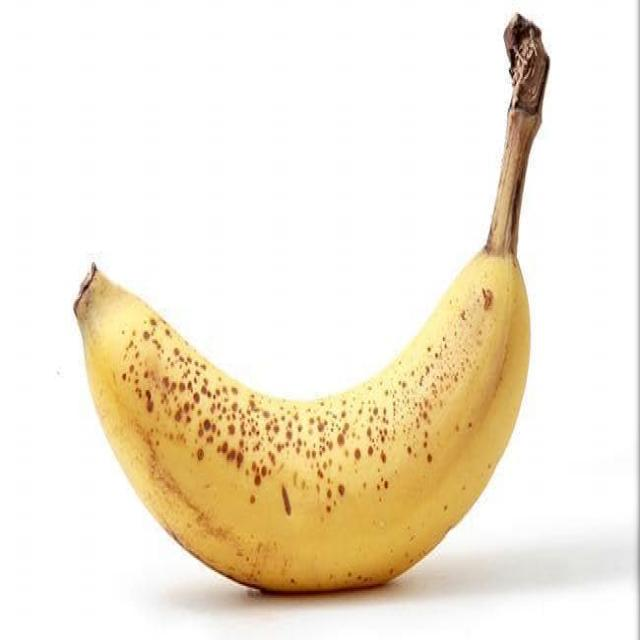banana: (72, 8, 551, 601)
